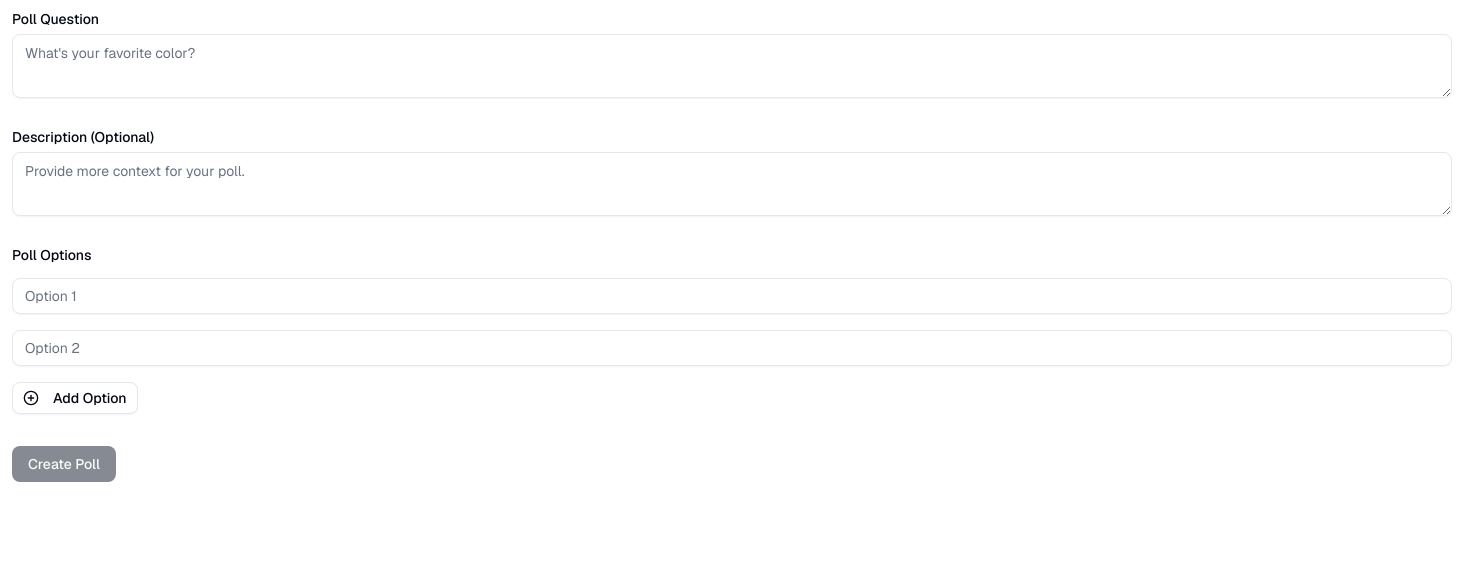
Test case: PollForm › should prevent removing options below the minimum limit
Note: First add an option to have 3 total
Click the button "Add Option" at (75, 398), box [12, 382, 138, 414]
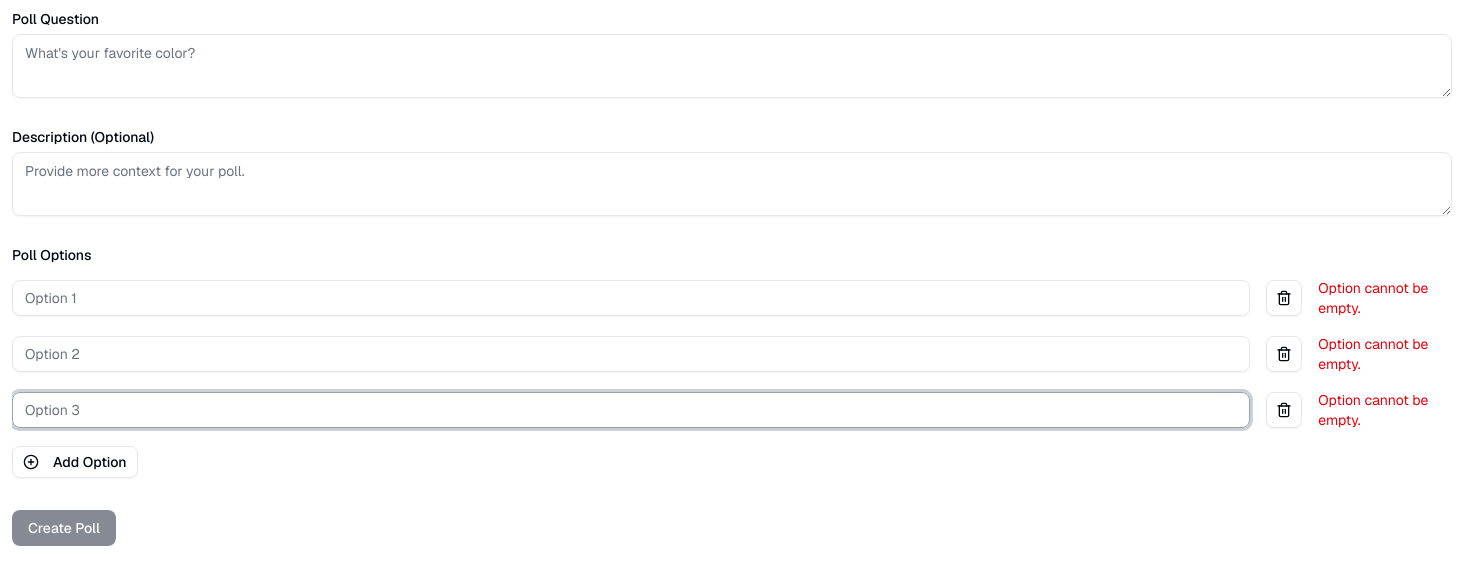
Expected: the number of fields with placeholder "Option 1" is 3, [12, 280, 1250, 316]; [12, 336, 1250, 372]; [12, 392, 1250, 428]
Note: Remove one option
Click the 1st button at (1284, 298), box [1266, 280, 1302, 316]
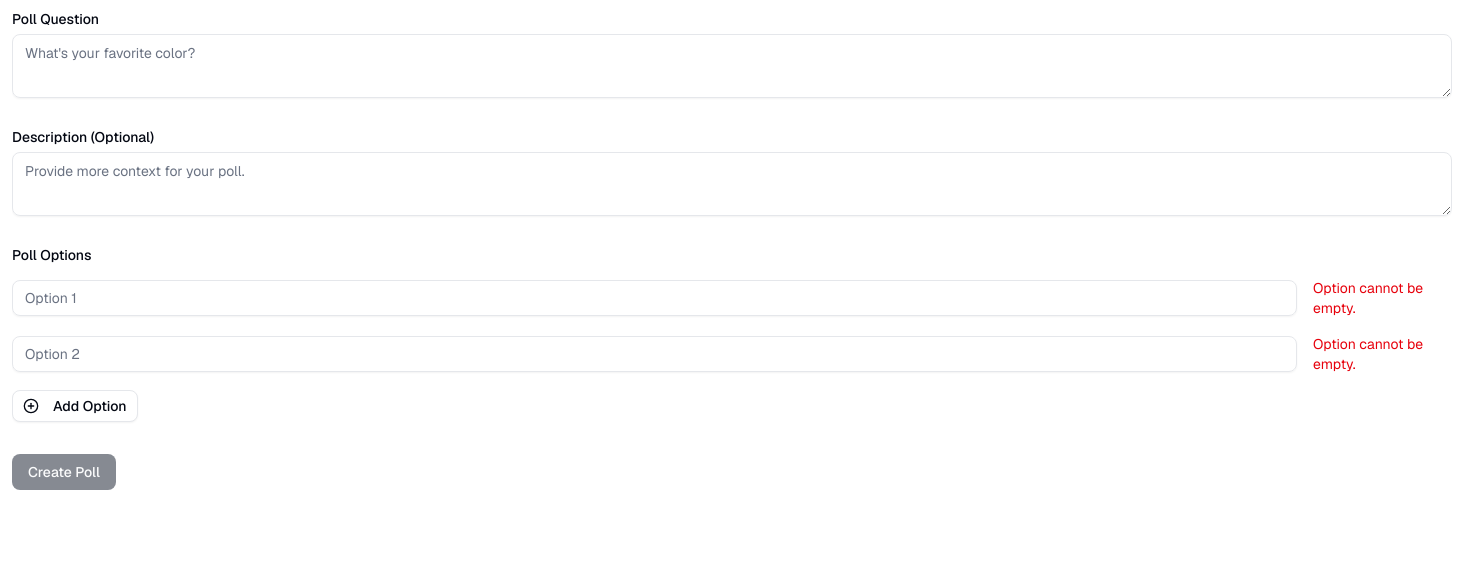
Result: the number of fields with placeholder "Option 1" is 2 at [12, 280, 1297, 316]; [12, 336, 1297, 372]
